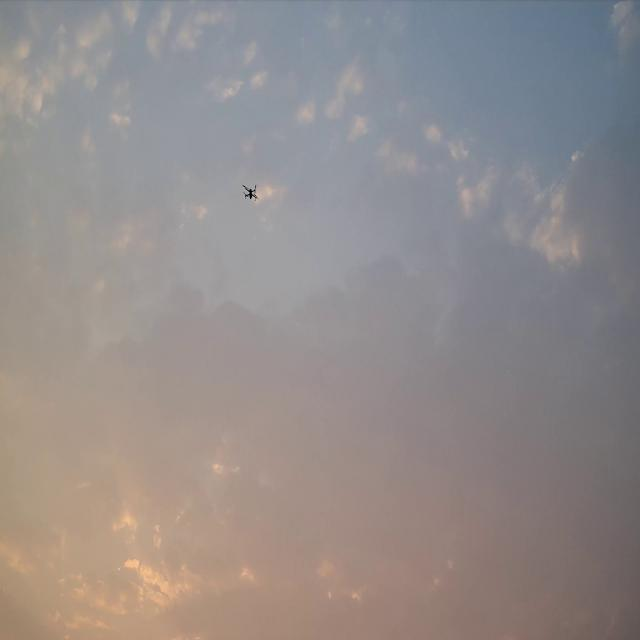UAV: (242, 184, 260, 201)
